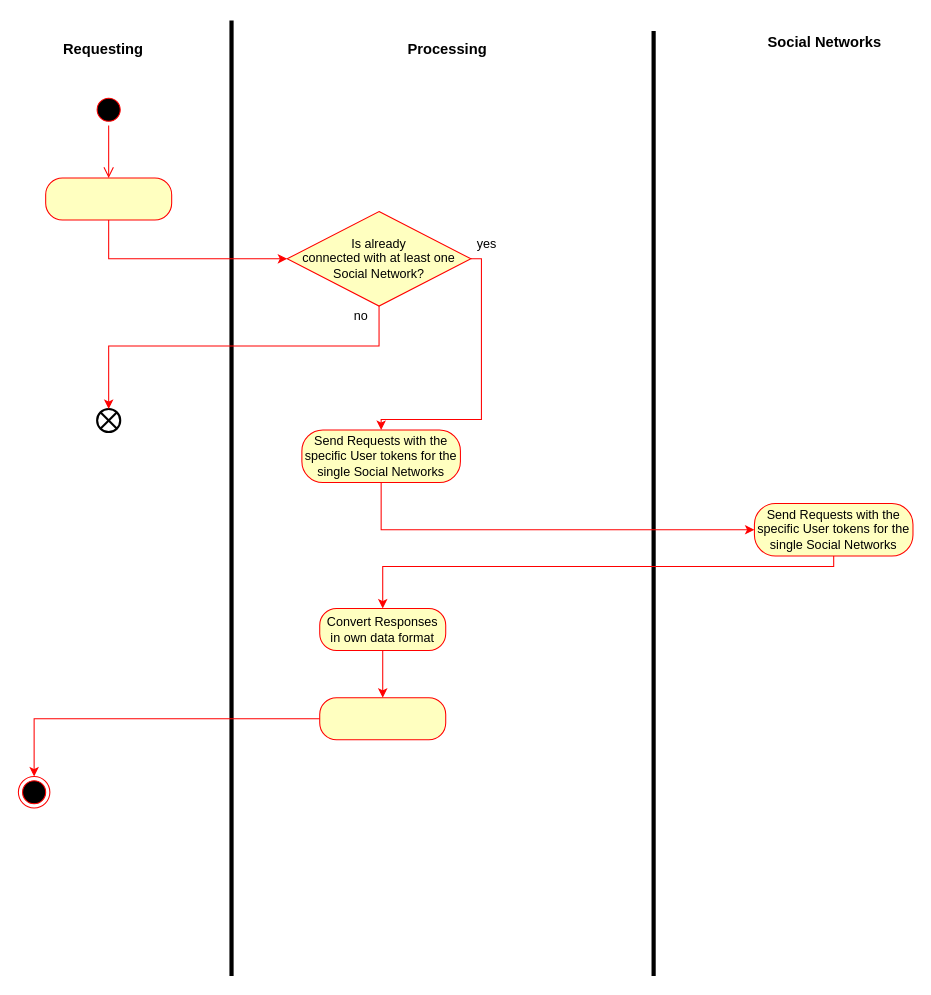
Some shapes in this 931 by 995 pixel diagram are drawn without their labels. The centre of each missing label's shape, as x and y in pixels:
"Click on Personal Feed Symbol" belongs at point (108, 198).
"Display collected Feeds as result to the User" belongs at point (382, 718).
